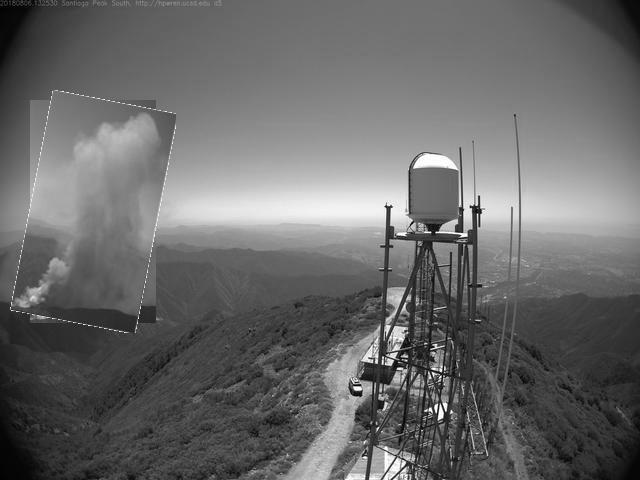smoke: (21, 96, 168, 330)
